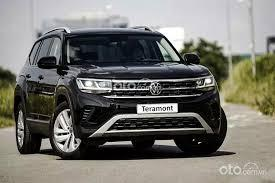volkswagen: (146, 80, 163, 98)
